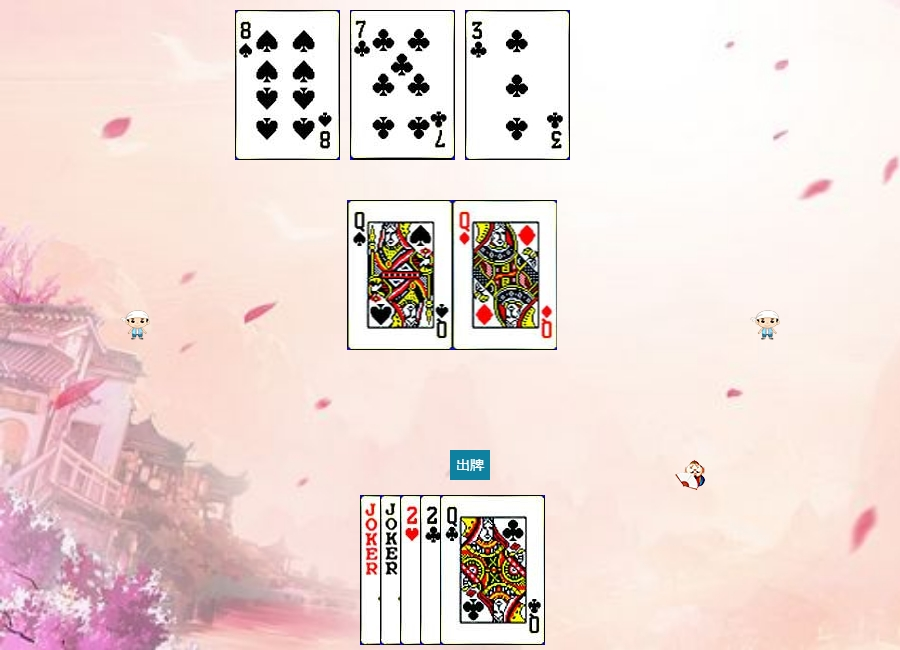12~1: (453, 200, 558, 350)
12~2: (440, 495, 545, 645)
12~4: (348, 200, 453, 350)
15~2: (420, 495, 525, 645)
15~3: (400, 495, 505, 645)
17~3: (380, 495, 485, 645)
18~4: (360, 495, 465, 645)
3~2: (465, 10, 570, 160)
7~2: (350, 10, 455, 160)
8~4: (235, 10, 340, 160)
